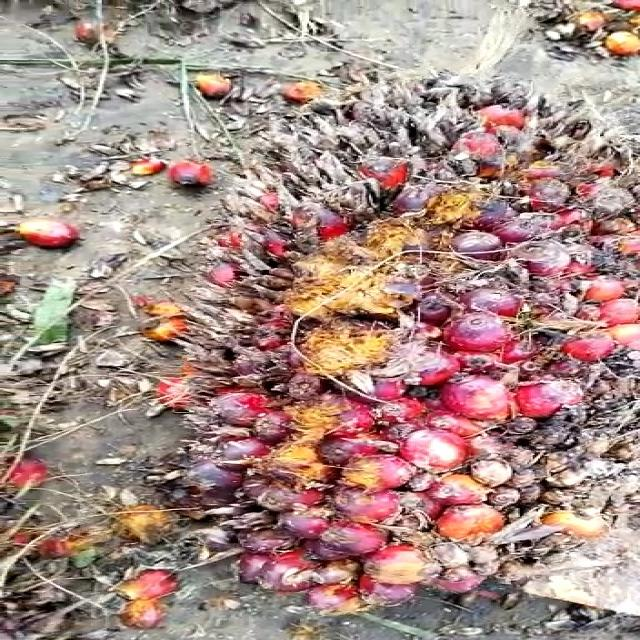palm oil: (146, 60, 640, 603)
